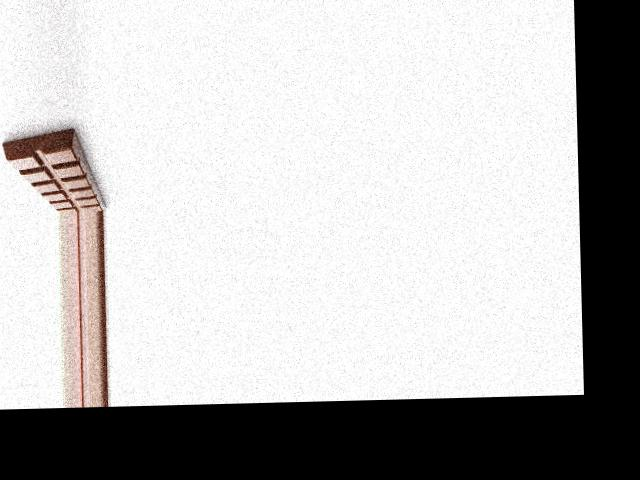chocolate: (1, 125, 112, 212)
